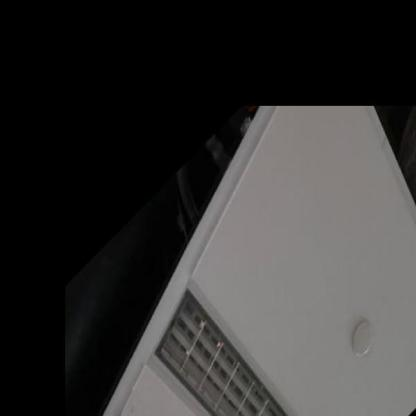light_off: (127, 195, 348, 414)
